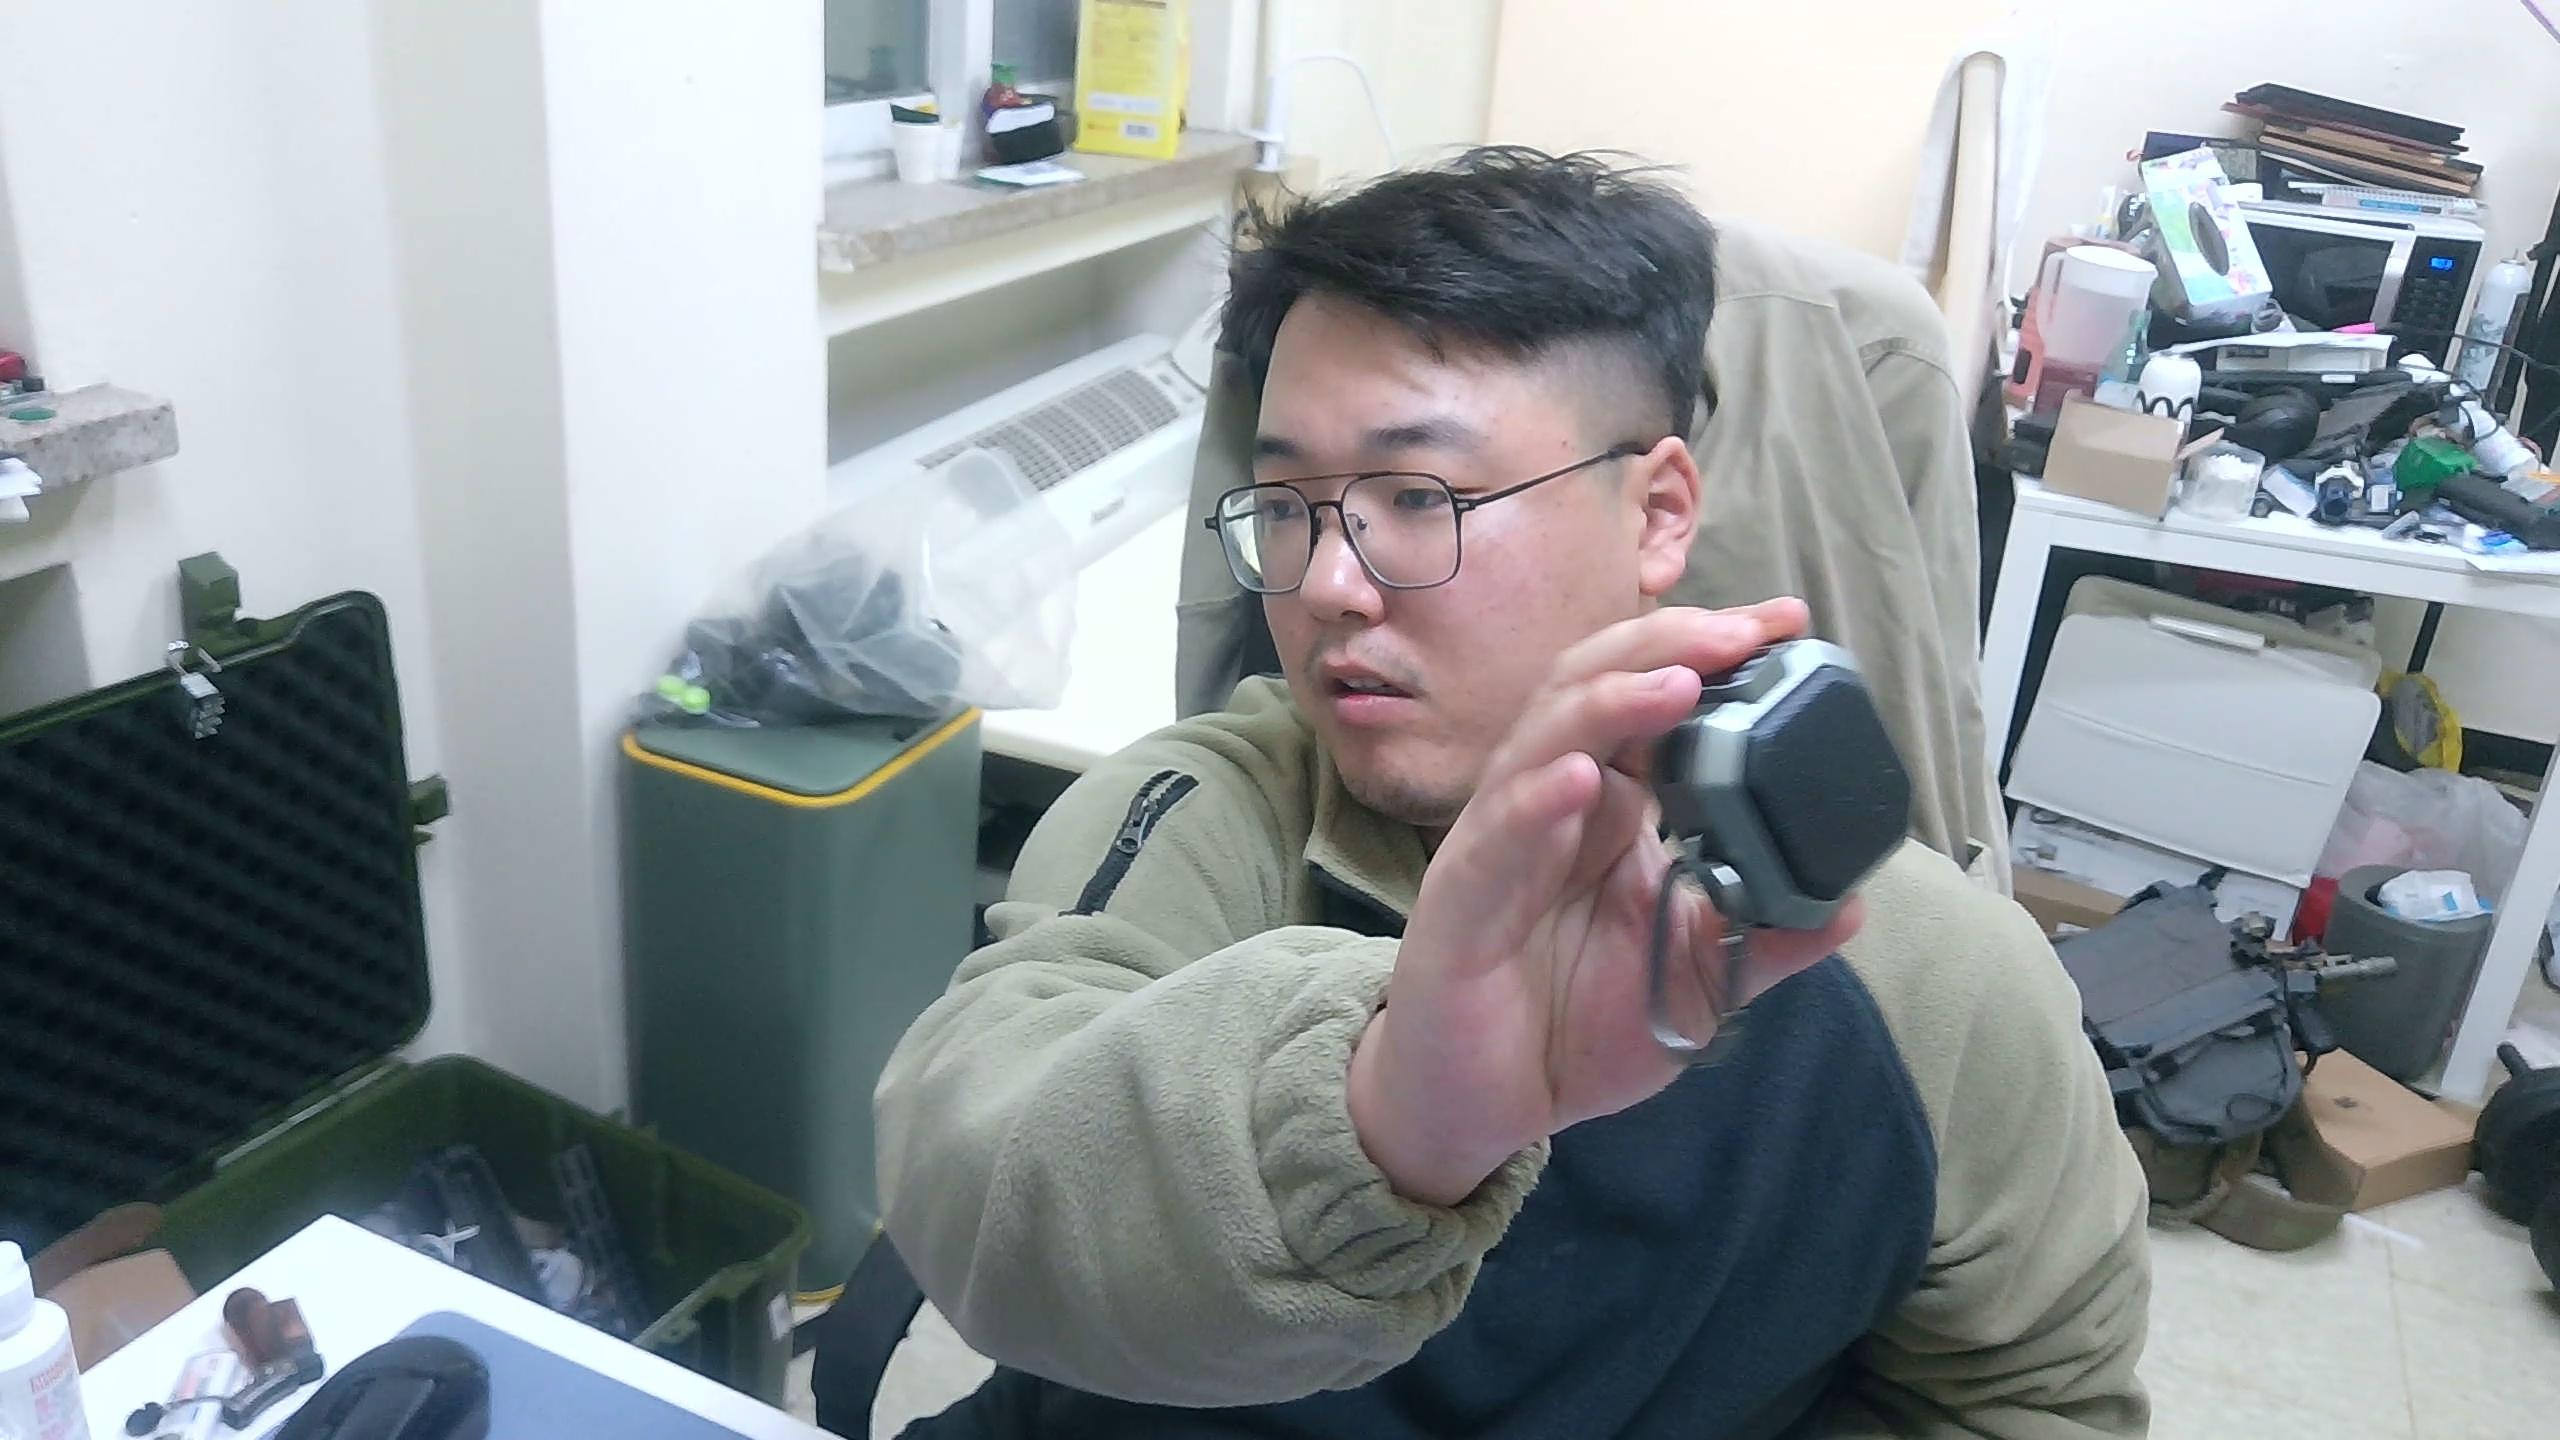blue_pliers: (1647, 633, 1916, 935)
